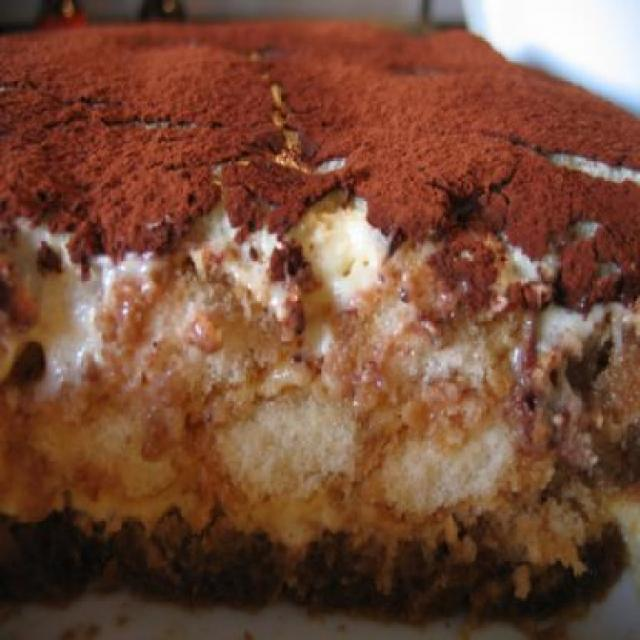Tiramisu: (9, 29, 608, 600)
